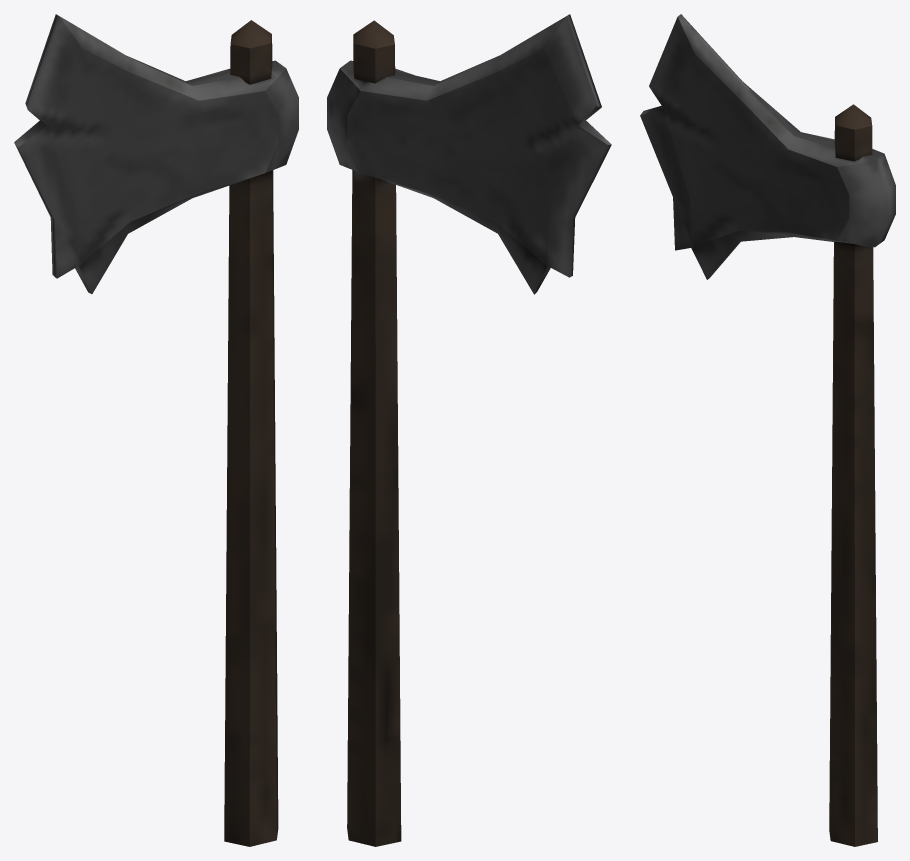
File: weapon_axe.fbx
3 renders of one model, left to right at view 1: azimuth 30°, elevation 25°; view 2: azimuth 150°, elevation 25°; view 3: azimuth 330°, elevation 25°, orthographic. The views are drawn at different scales.
Parts seen in each view (by area): view 1: pCube2; view 2: pCube2; view 3: pCube2.
Boxes of the visible parts, x1,y1,x2,y2 form: pCube2: (14, 14, 298, 846); pCube2: (327, 14, 611, 846); pCube2: (640, 14, 895, 846).
Bounding box in the file's own units: 172 × 512 × 34.11.
